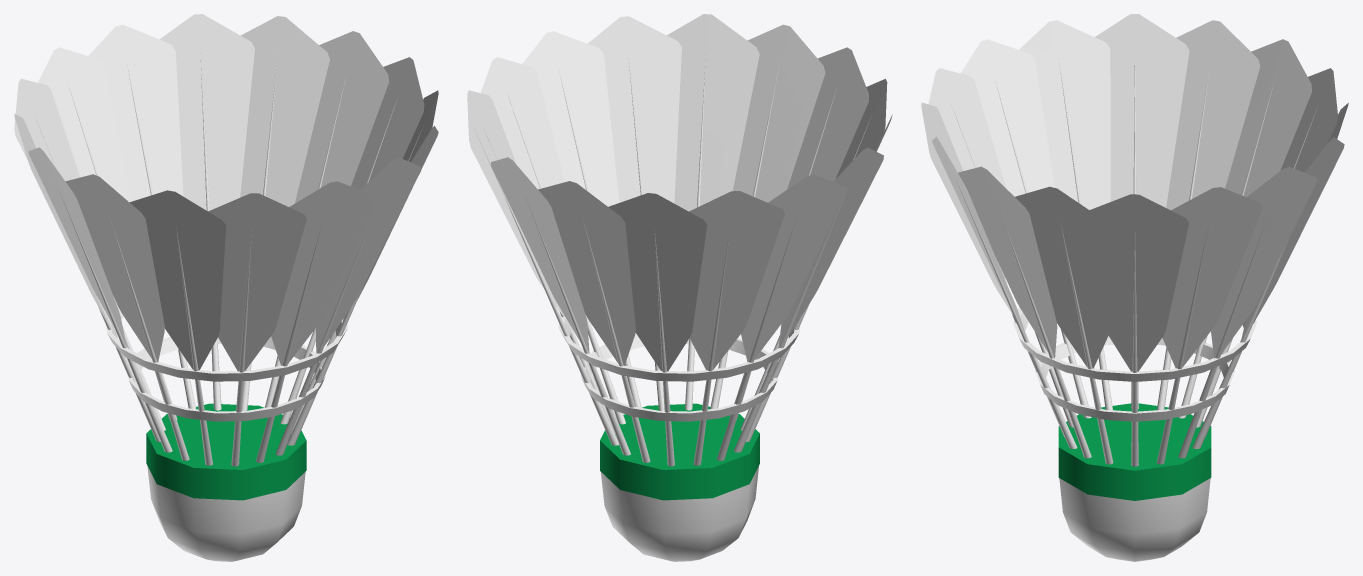
File: shuttle.glb
The picture shows the model from 3 angles, left to right: view 1: azimuth 30°, elevation 25°; view 2: azimuth 150°, elevation 25°; view 3: azimuth 270°, elevation 25°; orthographic projection.
Parts seen in each view (by area): view 1: stem; view 2: stem; view 3: stem.
Boxes of the visible parts, bbox=[...] form: stem: bbox=[14, 14, 438, 561]; stem: bbox=[467, 14, 892, 561]; stem: bbox=[921, 14, 1348, 561].
Size of the model in its own units: 0.0766 by 0.0891 by 0.0766.
